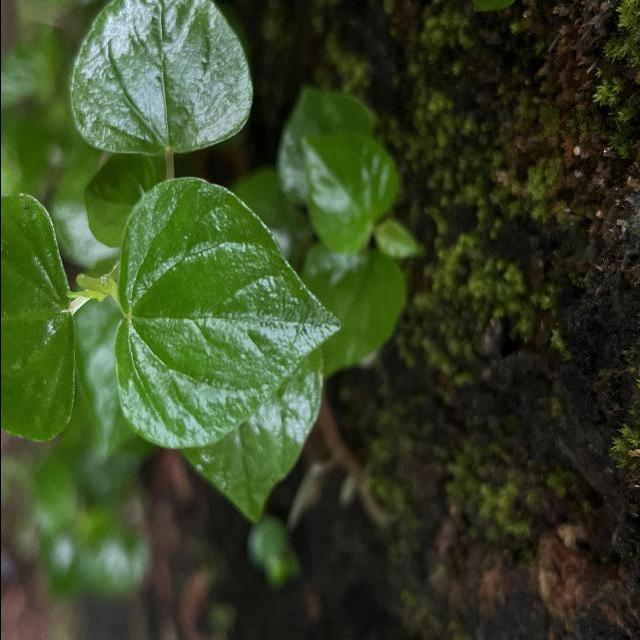Peperomia pellucida: (107, 174, 346, 452)
